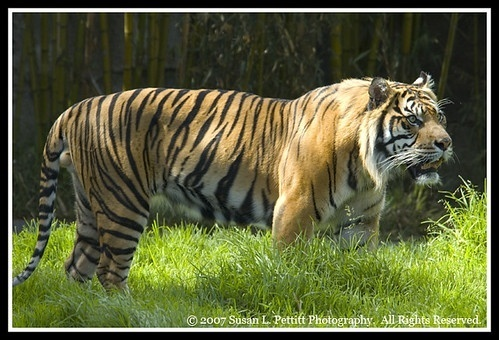tigre: (13, 70, 455, 303)
